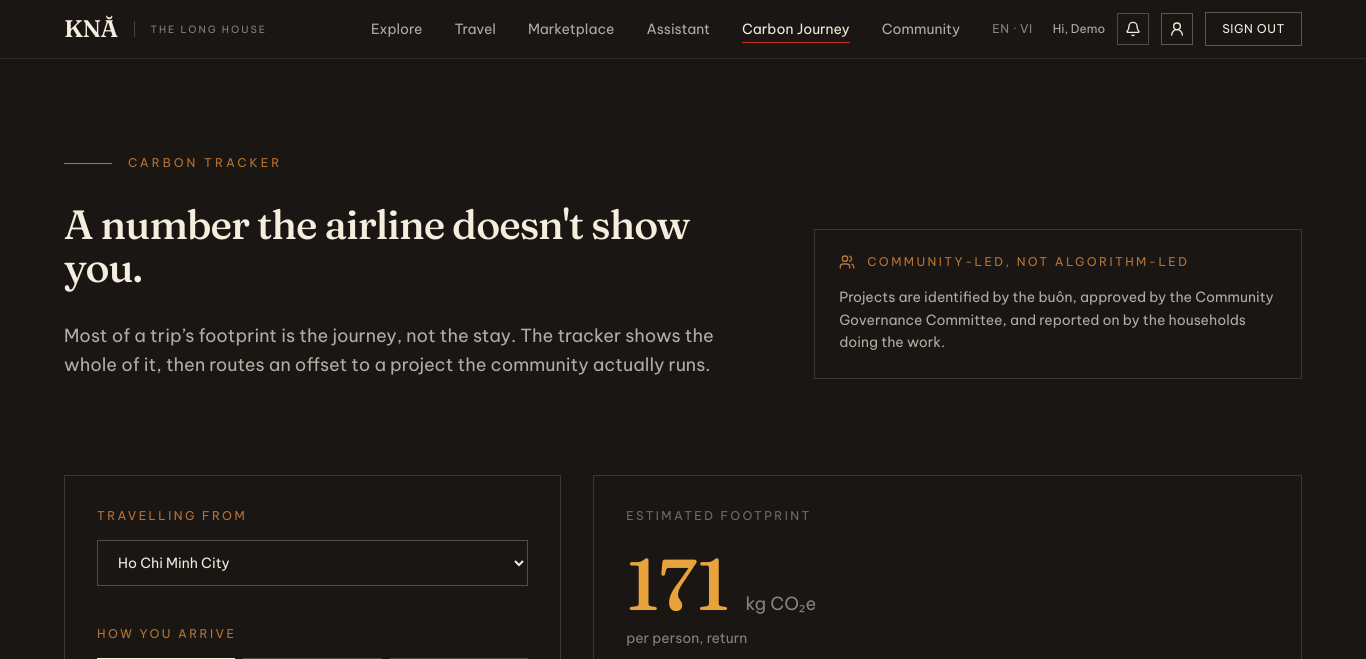
CarbonTracker offsets › donation preview › does not adjust the corridor, which has no sessions
Select "Europe" in the dropdown labelled "Travelling from" at (313, 563), box x1=97 y1=540 x2=528 y2=586
(page scrolled)
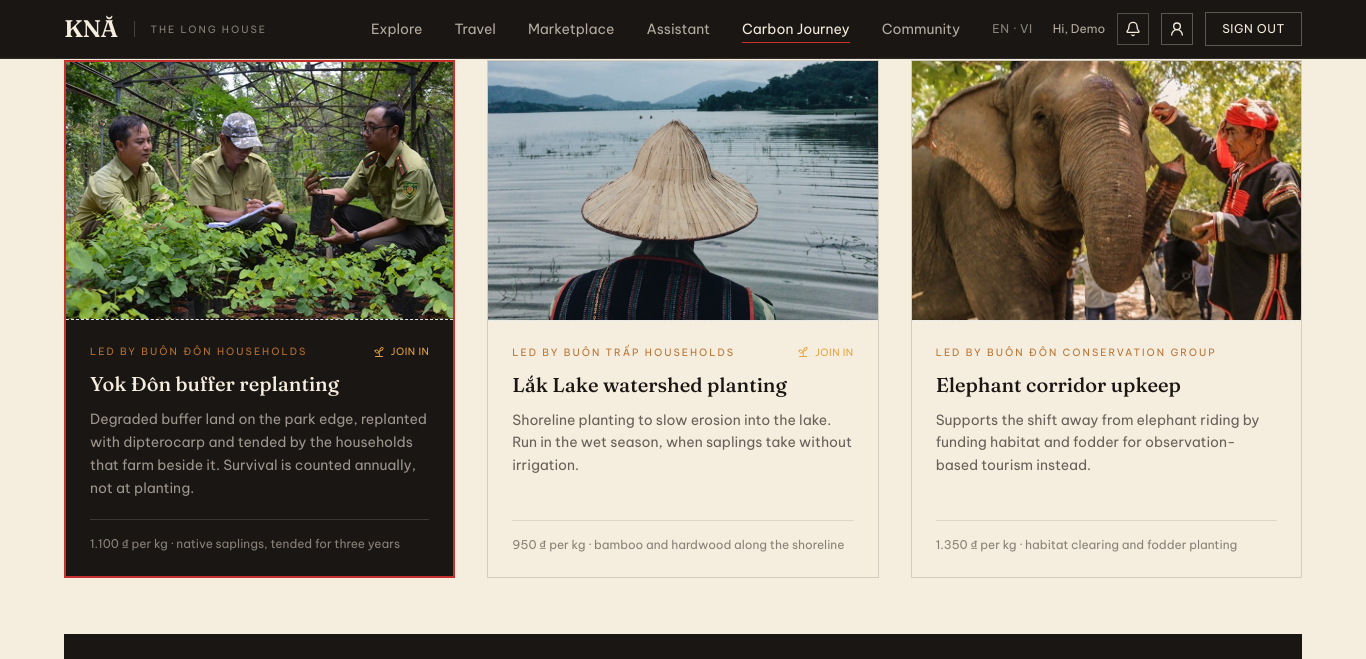
Click the heading "Elephant corridor upkeep" at (1058, 384), box x1=936 y1=372 x2=1181 y2=397
(page scrolled)
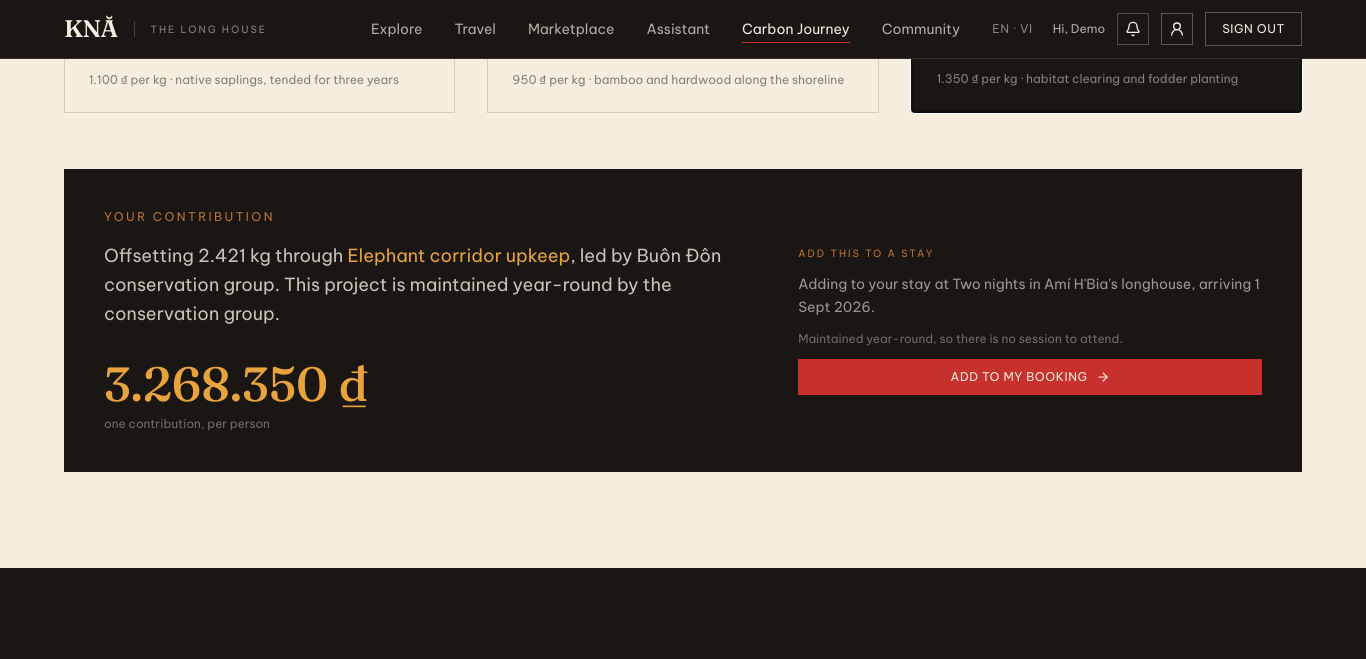
Check: the text "3.268.350 ₫" is shown, box x1=104 y1=354 x2=369 y2=414
